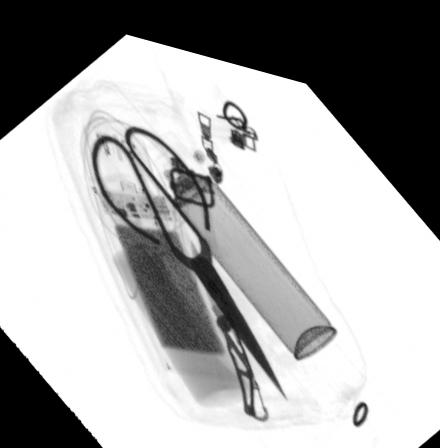Knife: (189, 223, 267, 409)
Powerbank: (91, 176, 244, 365)
Scissors: (90, 120, 291, 387)
Sprayer: (145, 126, 338, 342)
